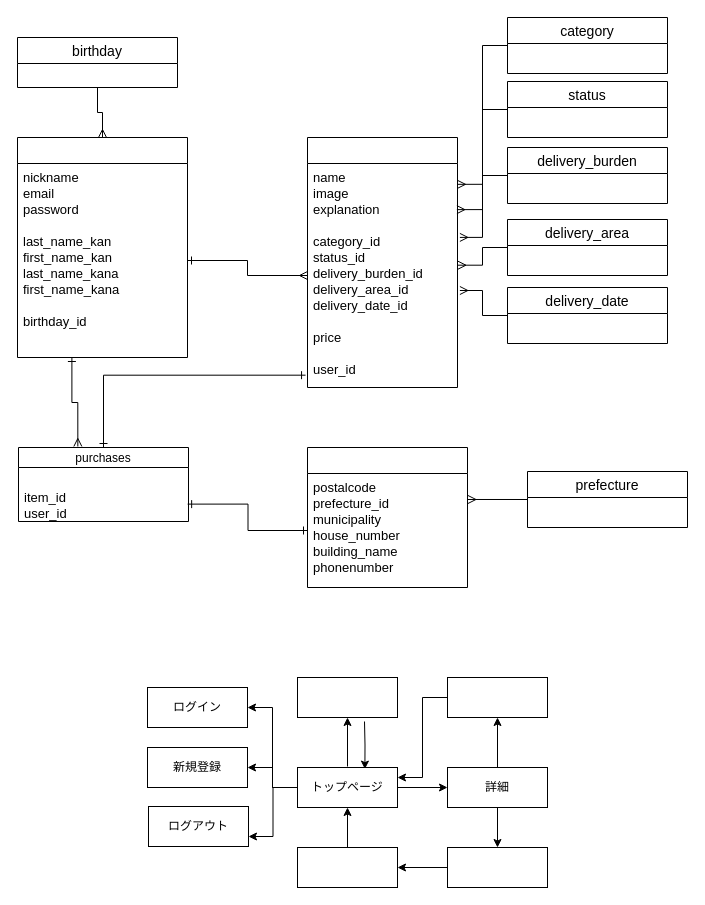
Some shapes in this 705 by 905 pixel diagram are drawn without their labels. Here are the shapes that lost their labels. From the top down, the box of each, then its label:
(16, 136, 188, 358): users
(306, 136, 458, 388): items
(306, 446, 468, 588): addresses
(296, 676, 398, 718): 出品
(446, 676, 548, 718): 削除
(296, 846, 398, 888): 認証
(446, 846, 548, 888): 購入
